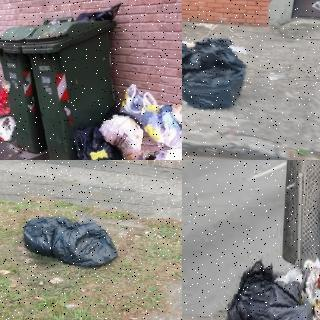Garbage: (182, 25, 257, 116), (15, 212, 127, 271), (223, 258, 315, 320), (101, 113, 153, 160), (69, 121, 125, 160), (141, 104, 182, 151), (0, 114, 16, 141), (0, 79, 12, 115)
